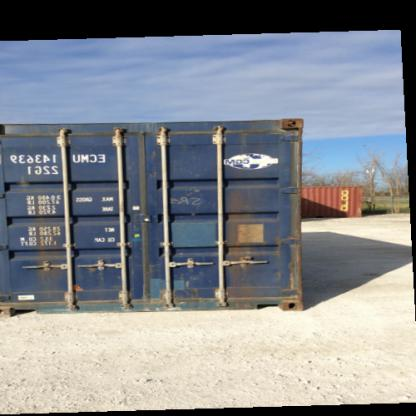Damage: (220, 186, 256, 285), (276, 201, 304, 311), (32, 212, 62, 276), (156, 274, 202, 310), (168, 187, 210, 213), (84, 256, 115, 290), (274, 116, 302, 142)
